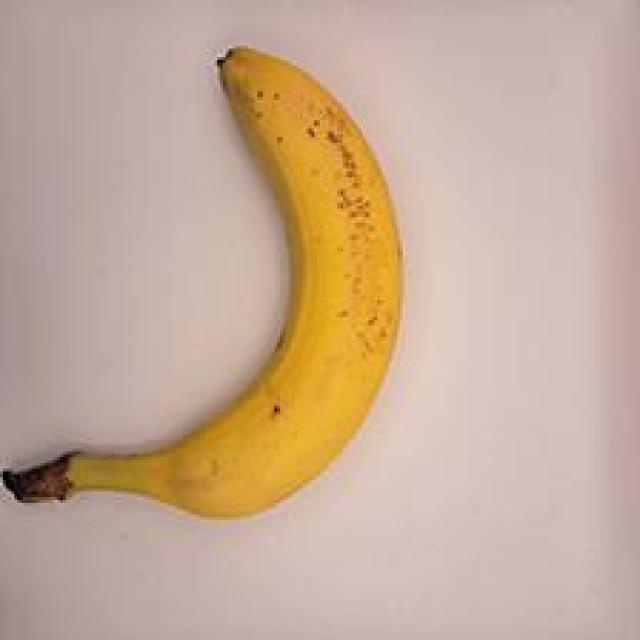ripe: (18, 39, 417, 546)
